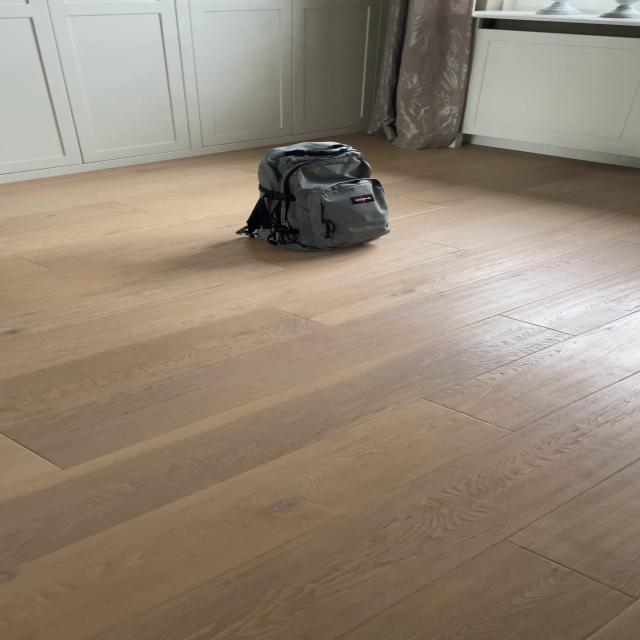backpack: (240, 137, 396, 256)
